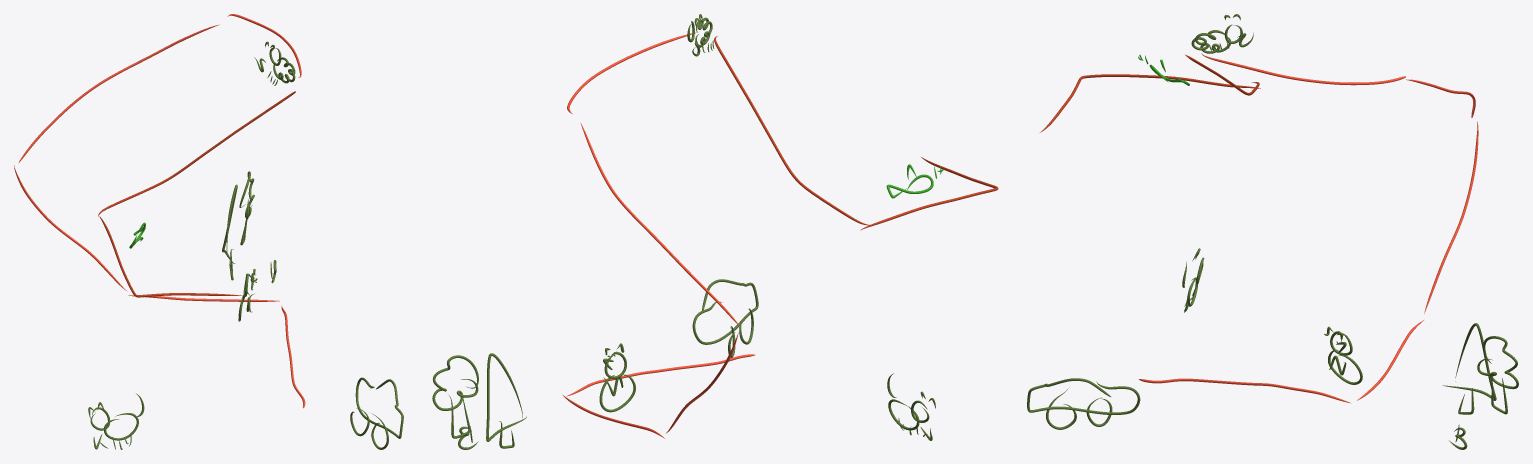
The picture shows the model from 3 angles, left to right: view 1: azimuth 30°, elevation 25°; view 2: azimuth 150°, elevation 25°; view 3: azimuth 270°, elevation 25°; orthographic projection. The views are drawn at different scales.
Visible parts, largest first — view 1: s.0021, s.0098, s.0104, s.0026, s.0020; view 2: s.0021, s.0098, s.0104, s.0026, s.0044, s.0042, s.0018; view 3: s.0026, s.0104, s.0018, s.0022, s.0020, s.0044.
Boxes of the visible parts, <box> form: s.0021: <box>18,24,219,162</box>; s.0098: <box>98,91,295,216</box>; s.0104: <box>99,216,243,297</box>; s.0026: <box>355,377,403,438</box>; s.0020: <box>14,165,126,290</box>; s.0021: <box>580,123,739,325</box>; s.0098: <box>714,36,869,225</box>; s.0104: <box>860,157,998,230</box>; s.0026: <box>692,279,758,344</box>; s.0044: <box>432,355,478,410</box>; s.0042: <box>486,353,526,441</box>; s.0018: <box>566,354,755,396</box>; s.0026: <box>1027,378,1140,414</box>; s.0104: <box>1040,74,1260,132</box>; s.0018: <box>1139,378,1350,403</box>; s.0022: <box>1201,53,1405,85</box>; s.0020: <box>1424,121,1478,313</box>; s.0044: <box>1477,336,1518,389</box>.
Size of the model in its own units: 143 by 175 by 156.
